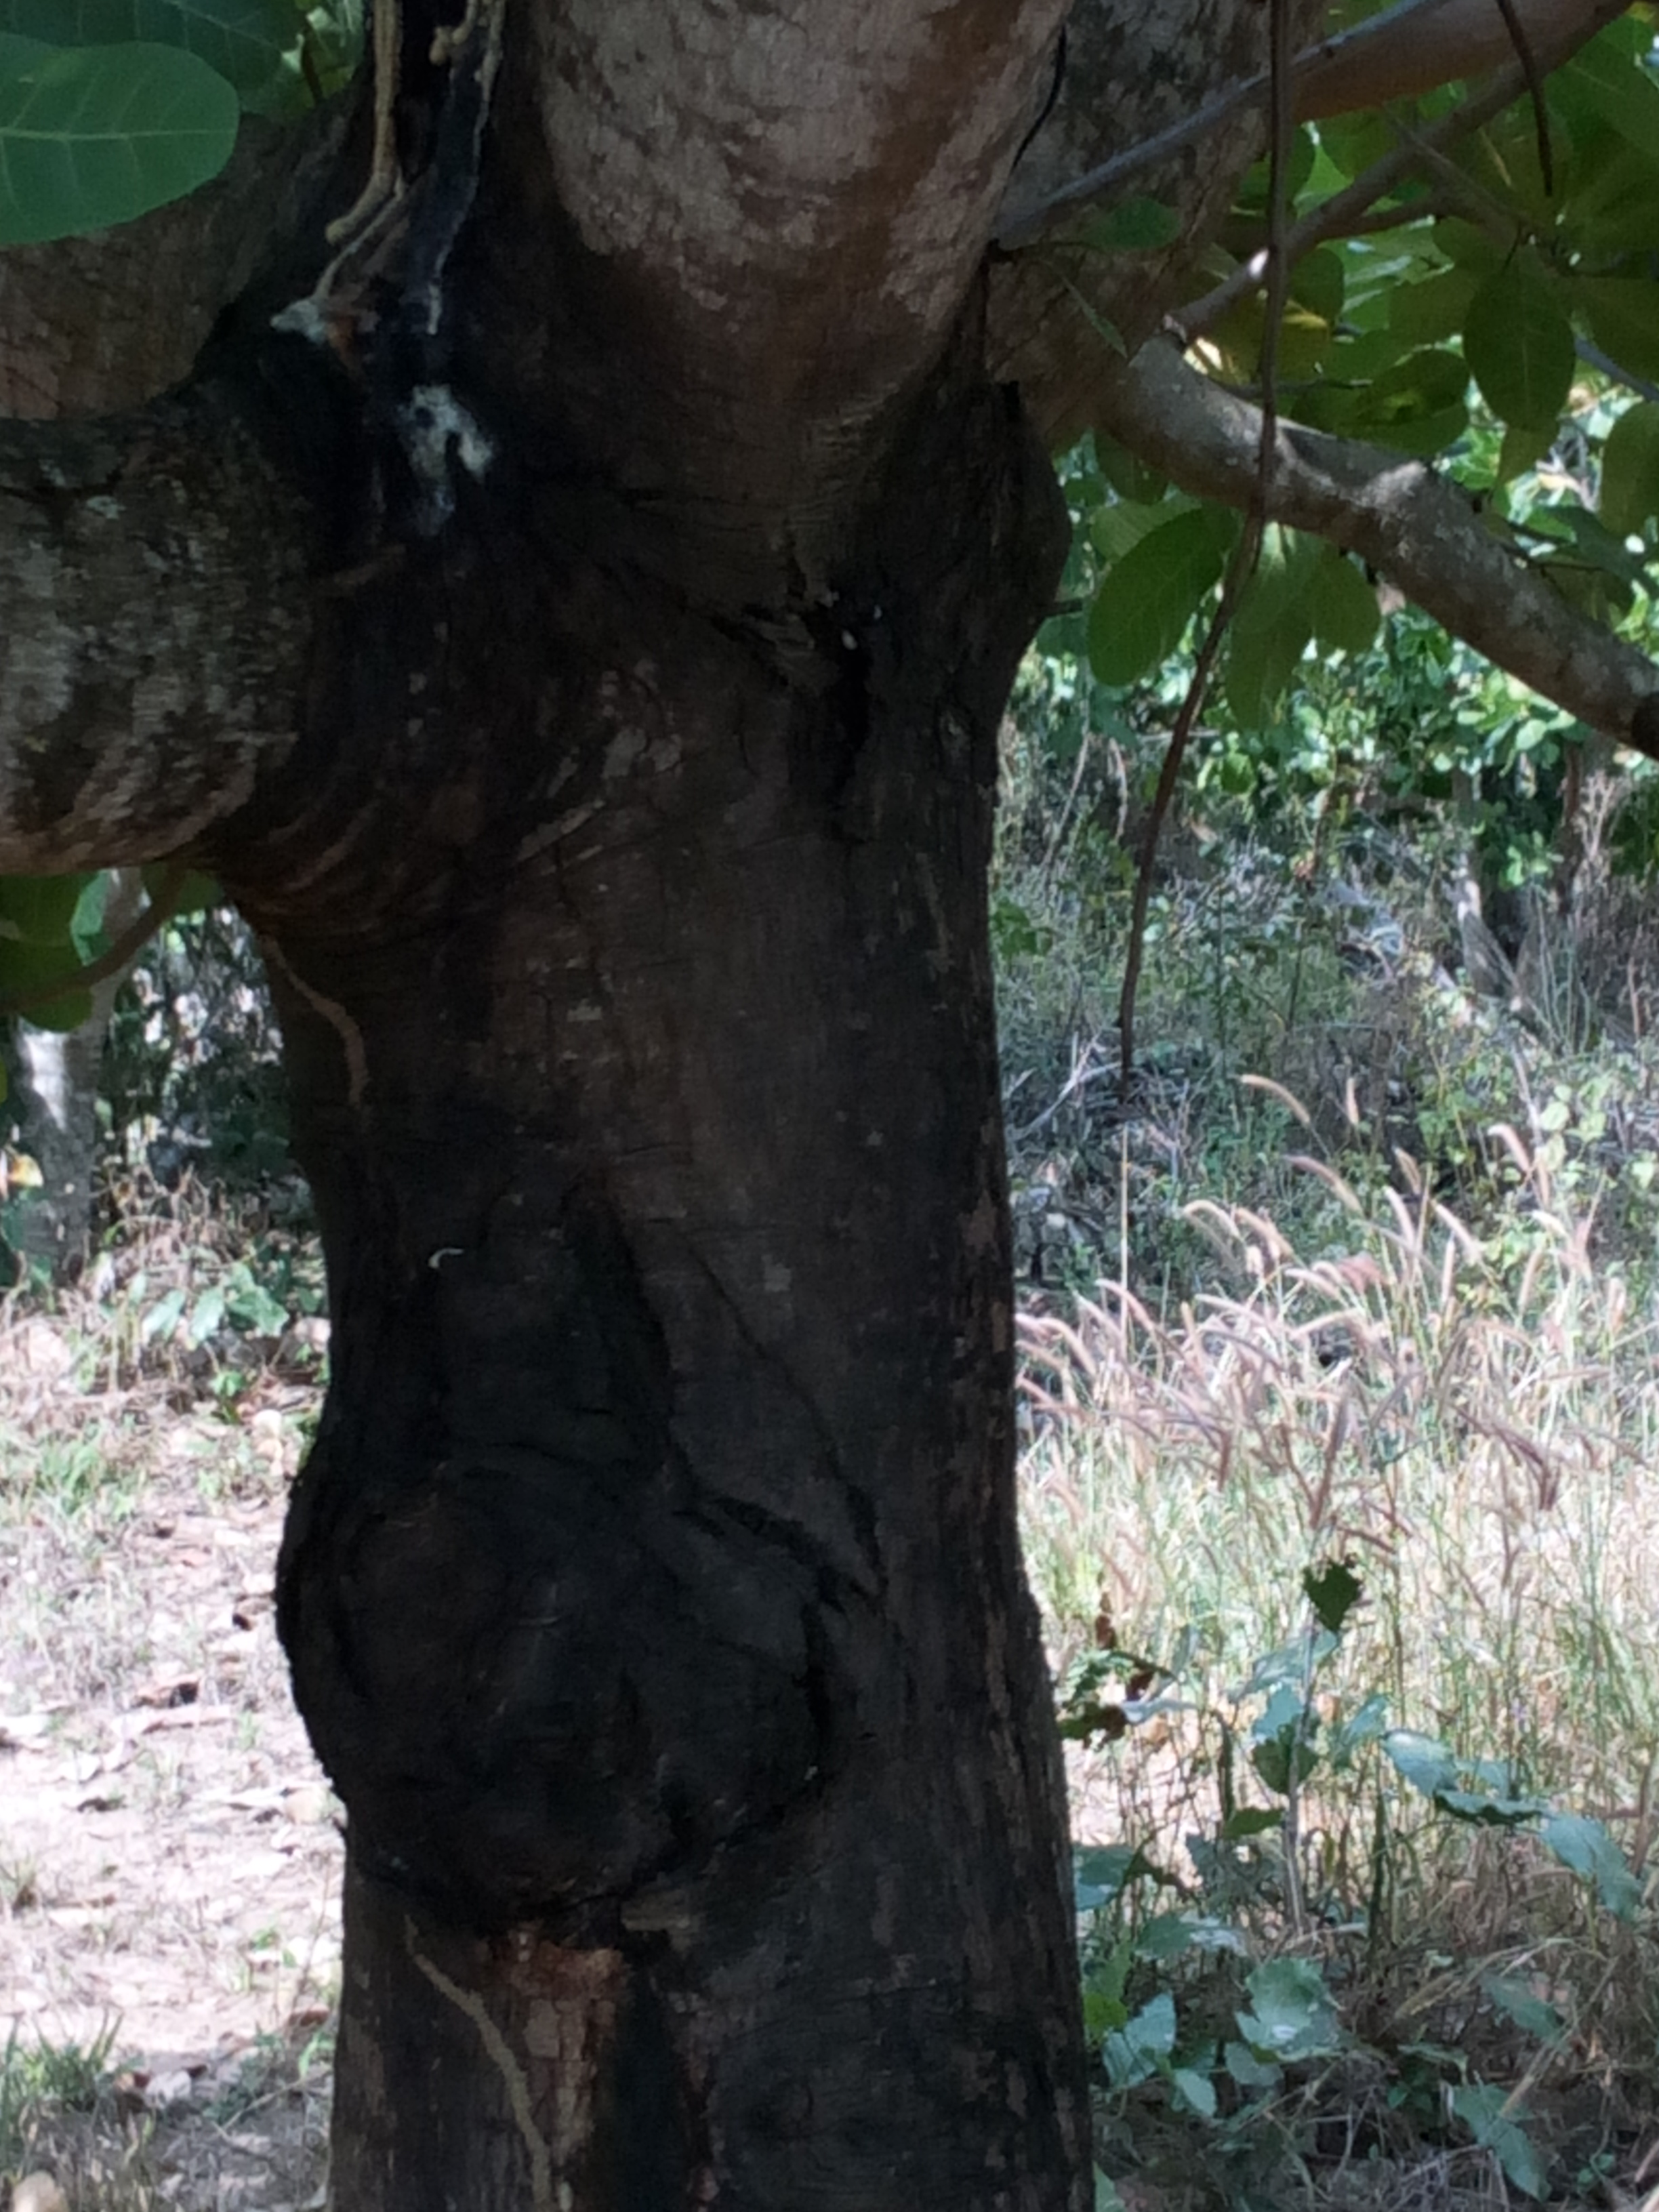Gommose: (295, 296, 1070, 1238), (295, 1252, 1080, 2113)
